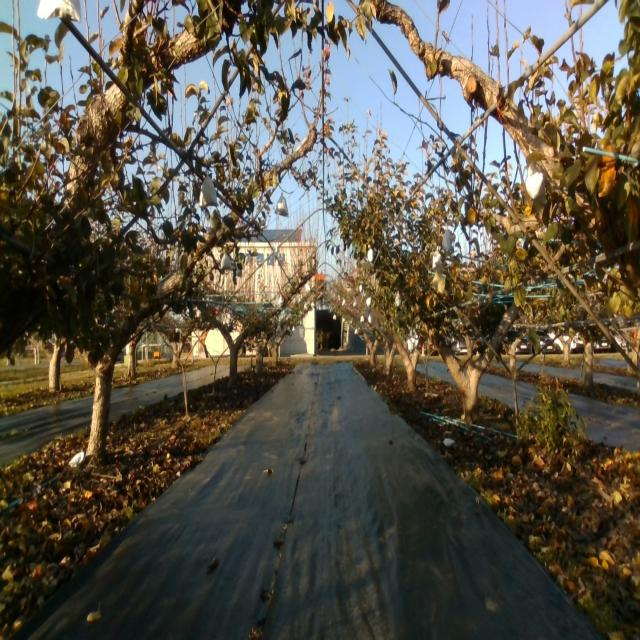pearbags: (199, 176, 218, 207), (526, 173, 546, 200), (275, 193, 290, 220), (220, 252, 232, 272), (442, 230, 452, 252)
